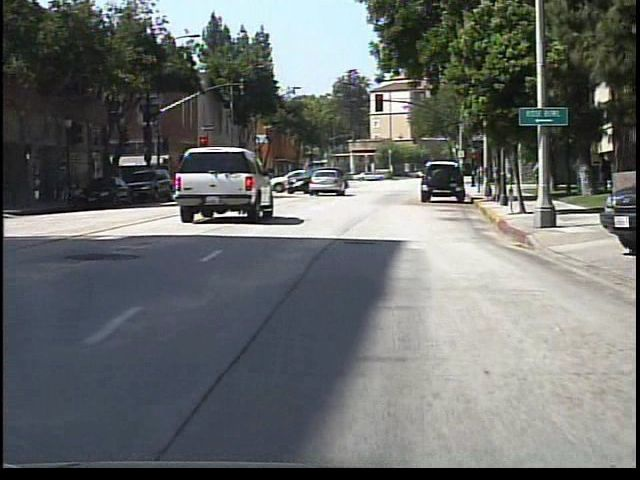person: (318, 160, 337, 195), (531, 158, 547, 194), (472, 156, 487, 186)
